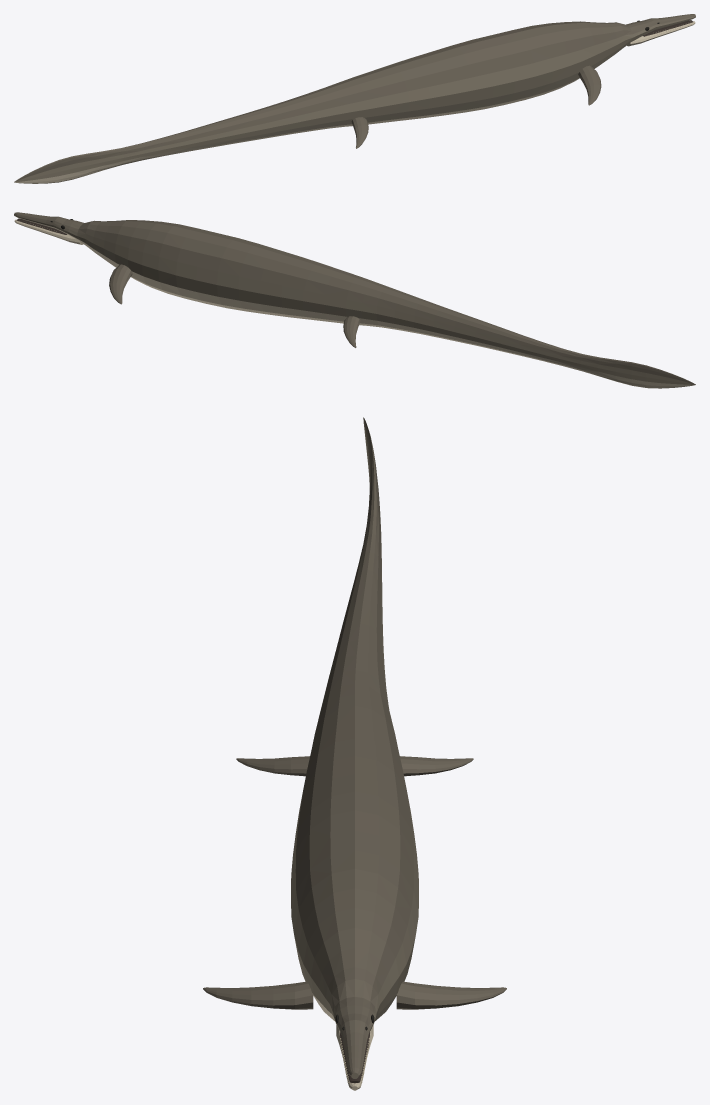
3 renders of one model, top to bottom at view 1: azimuth 30°, elevation 25°; view 2: azimuth 150°, elevation 25°; view 3: azimuth 270°, elevation 25°, orthographic. The views are drawn at different scales.
Parts seen in each view (by area): view 1: Axial_body_small_skull_long_trunk_low_tail, Inferred_forepaddle_near, Inferred_hindpaddle_near, Slender_lower_jaw; view 2: Axial_body_small_skull_long_trunk_low_tail, Inferred_forepaddle_far, Inferred_hindpaddle_far, Slender_lower_jaw; view 3: Axial_body_small_skull_long_trunk_low_tail, Inferred_forepaddle_far, Inferred_forepaddle_near, Inferred_hindpaddle_far, Inferred_hindpaddle_near.
Boxes of the visible parts, x1,y1,x2,y2 form: Axial_body_small_skull_long_trunk_low_tail: [14, 14, 695, 183]; Inferred_forepaddle_near: [578, 65, 601, 105]; Inferred_hindpaddle_near: [351, 117, 368, 148]; Slender_lower_jaw: [627, 21, 695, 46]; Axial_body_small_skull_long_trunk_low_tail: [14, 212, 695, 388]; Inferred_forepaddle_far: [109, 264, 132, 304]; Inferred_hindpaddle_far: [343, 316, 360, 347]; Slender_lower_jaw: [14, 219, 83, 244]; Axial_body_small_skull_long_trunk_low_tail: [291, 417, 418, 1078]; Inferred_forepaddle_far: [396, 981, 506, 1009]; Inferred_forepaddle_near: [203, 981, 313, 1009]; Inferred_hindpaddle_far: [400, 756, 473, 776]; Inferred_hindpaddle_near: [236, 756, 309, 776].
Bounding box in the file's own units: 11.5 × 1.07 × 2.23.
